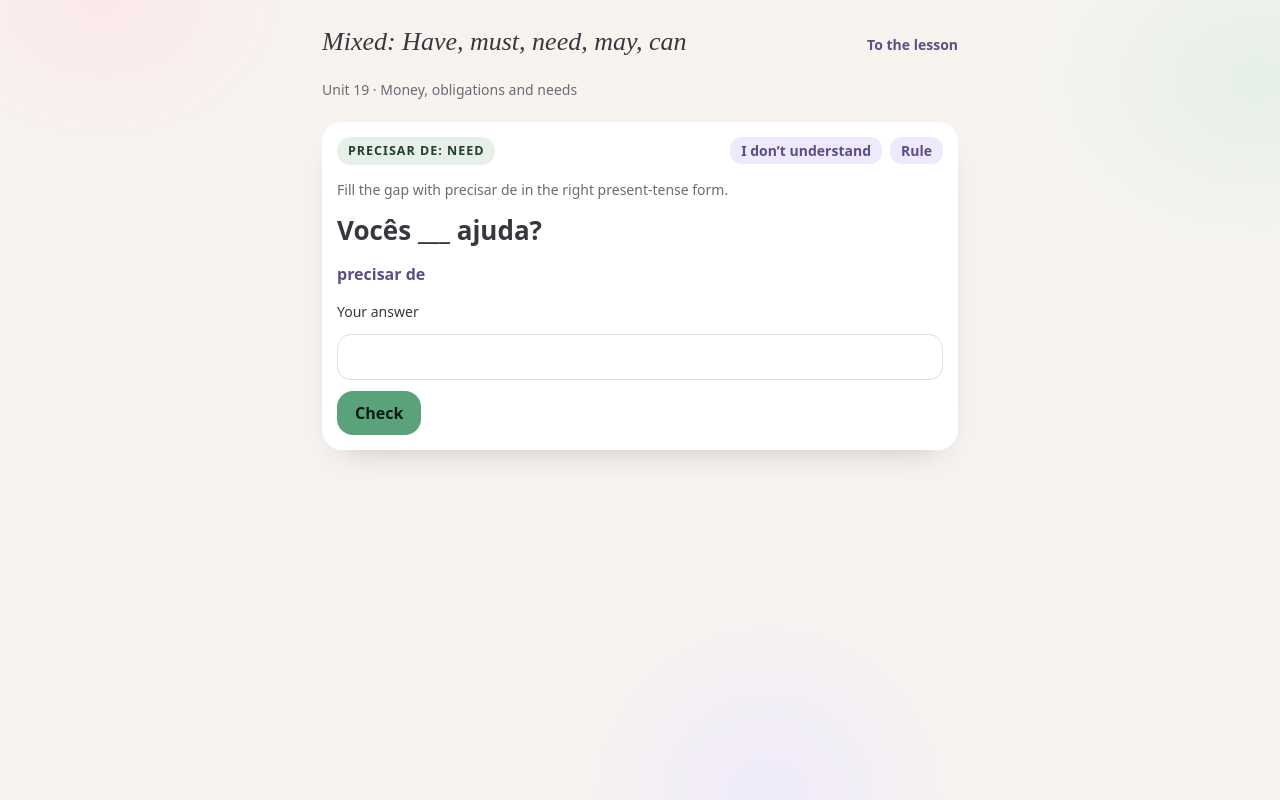
it: choose exercises › from a typed exercise to a choose one, focus moves to the first option
Type "x" into the field with test id "pack-drill-answer".
click(640, 357); type("x")  # box top-left (337, 334), bottom-right (943, 380)
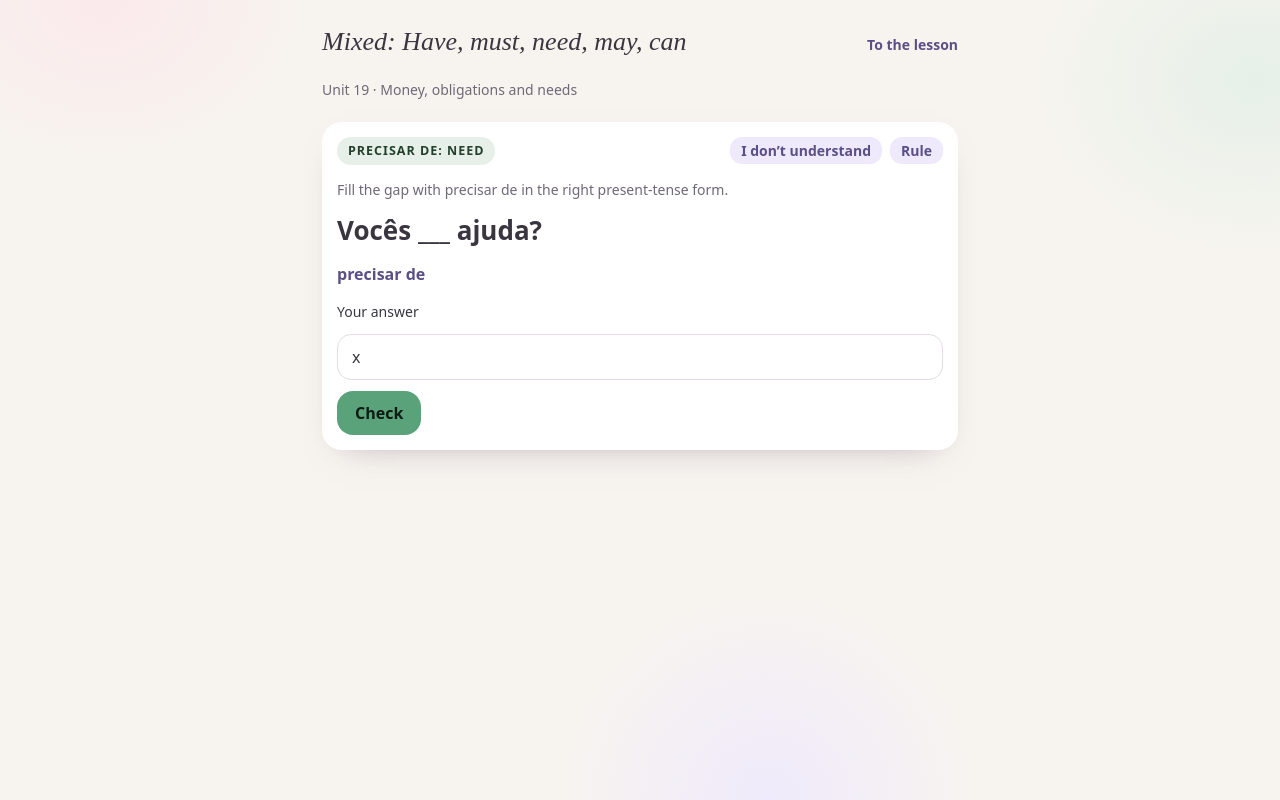
Click the button "Check".
click(379, 413)  # box top-left (337, 391), bottom-right (421, 435)
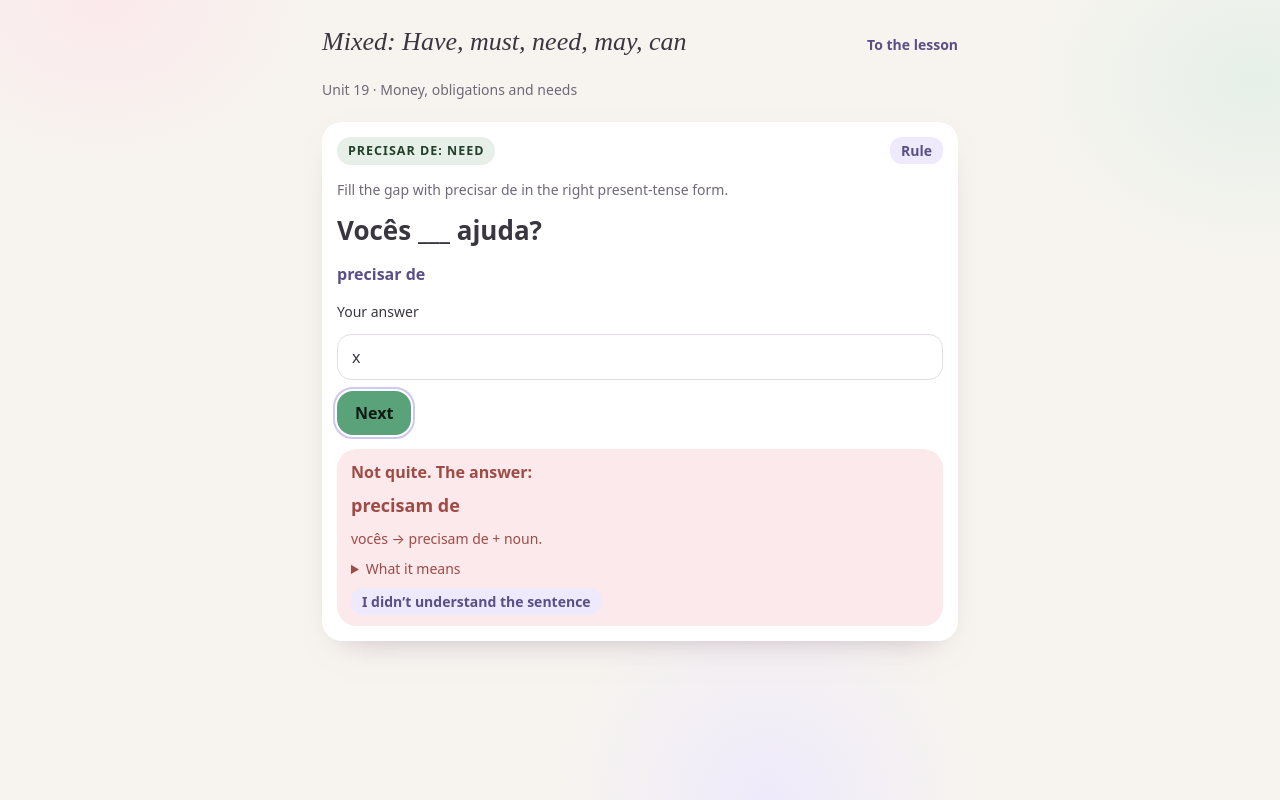
Click the button "Next".
click(374, 413)  # box top-left (337, 391), bottom-right (411, 435)
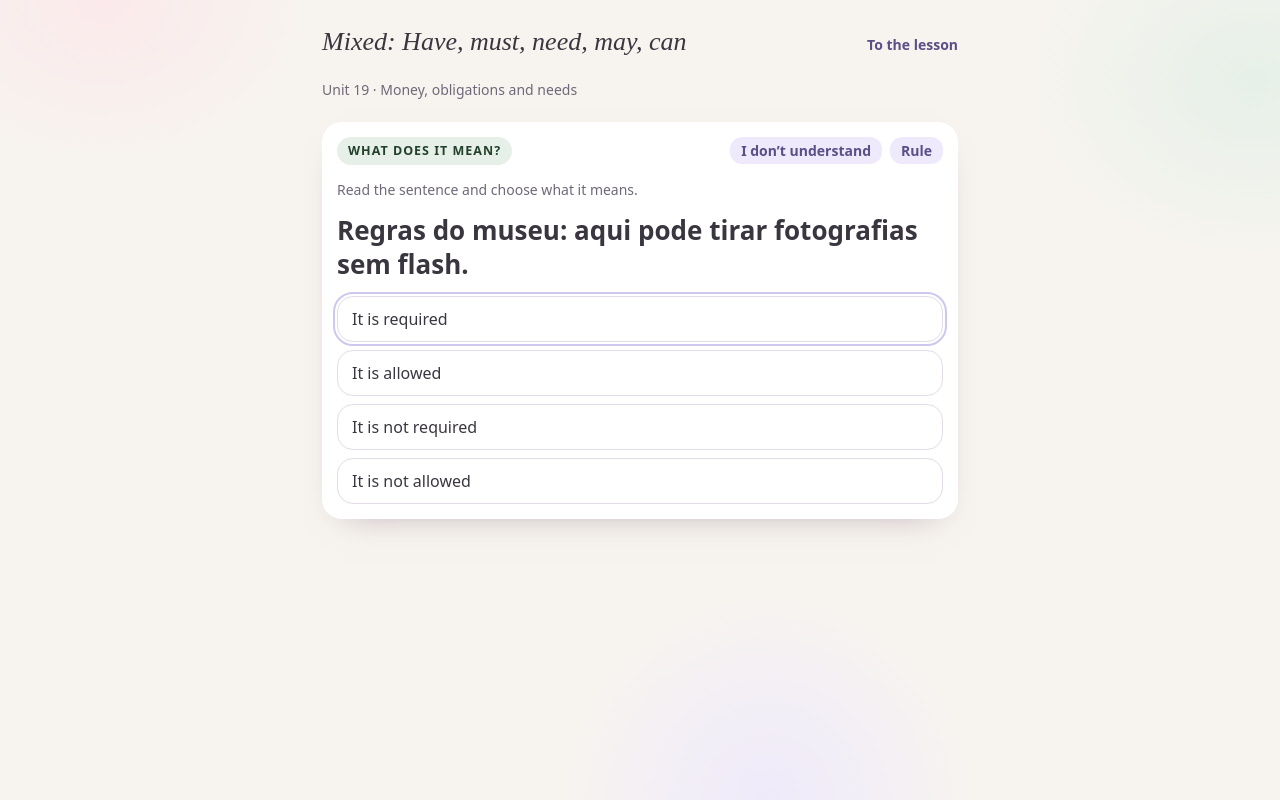
Now the text with test id "pack-drill-prompt" reads "Regras do museu: aqui pode tirar fotografias sem flash.", box top-left (337, 212), bottom-right (918, 282)
